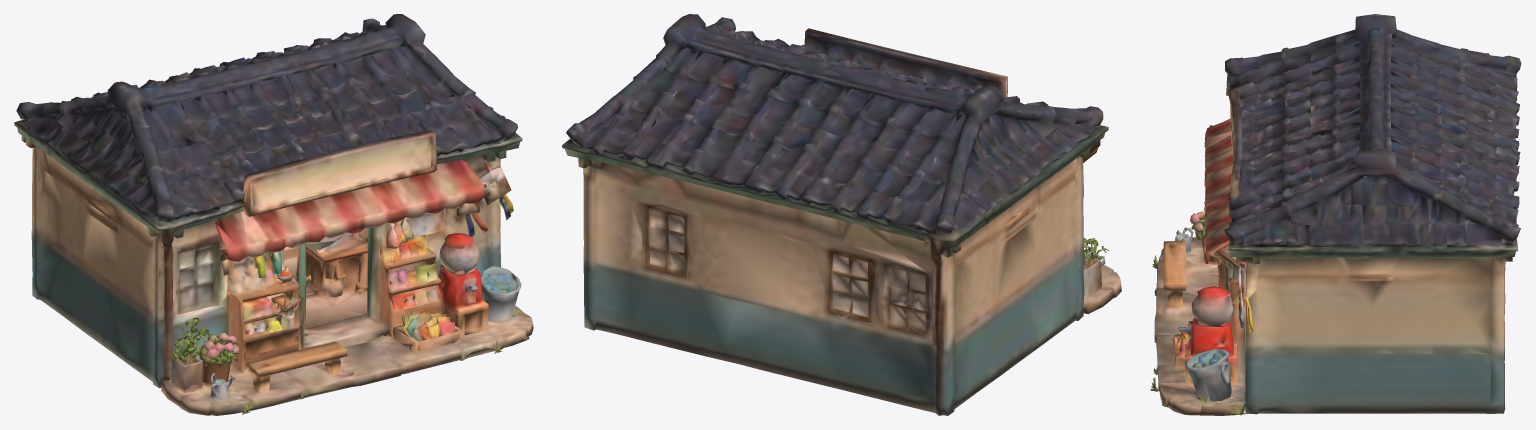
The model's file is bg_shop.glb.
3 renders of one model, left to right at view 1: azimuth 30°, elevation 25°; view 2: azimuth 150°, elevation 25°; view 3: azimuth 270°, elevation 25°, orthographic. The views are drawn at different scales.
Visible parts, largest first — view 1: Low; view 2: Low; view 3: Low.
Boxes of the visible parts, box(x1,y1,x2,y2) form: Low: box(14, 14, 533, 415); Low: box(562, 14, 1121, 415); Low: box(1150, 14, 1521, 415).
Bounding box in the file's own units: 6.21 × 4 × 5.39.
1 material, 1 textured.
